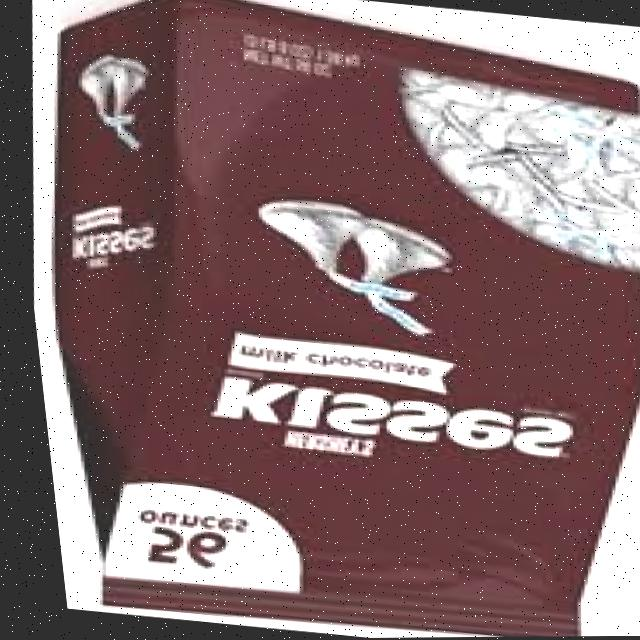kisses: (328, 214, 466, 303), (248, 188, 371, 287), (459, 147, 548, 201), (93, 51, 157, 124), (68, 52, 126, 117)
